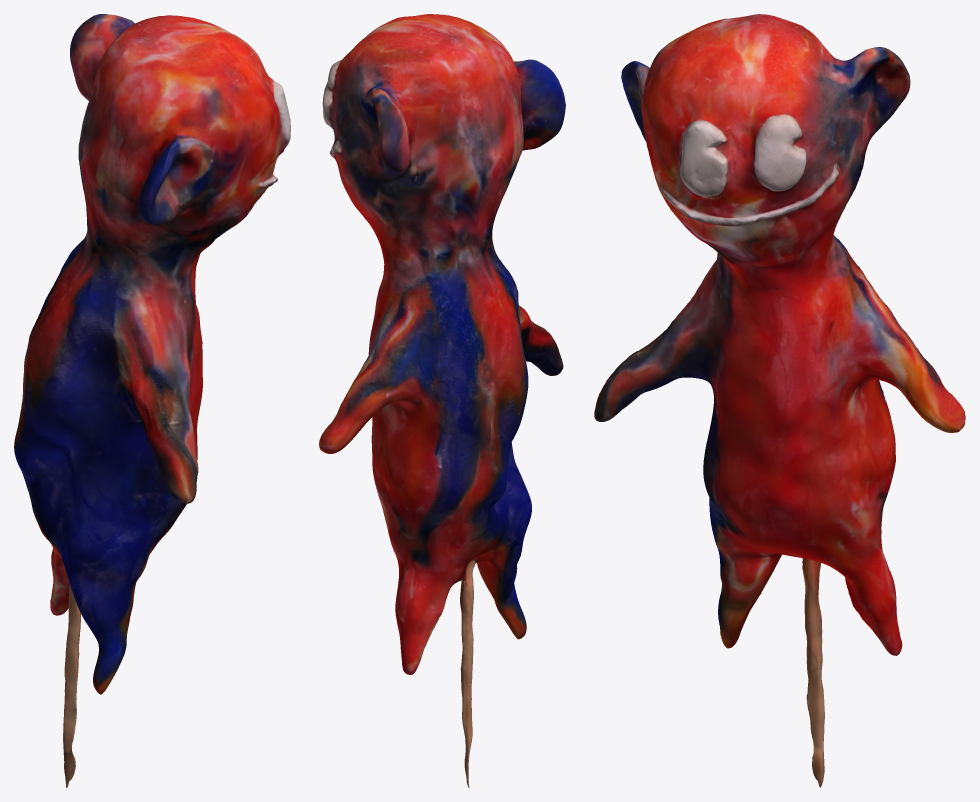
The model's file is figure.glb.
3 views of the same model, side by side, from view 1: azimuth 30°, elevation 25°; view 2: azimuth 150°, elevation 25°; view 3: azimuth 270°, elevation 25° (orthographic). The views are drawn at different scales.
Parts seen in each view (by area): view 1: model; view 2: model; view 3: model.
Boxes of the visible parts, x1,y1,x2,y2 form: model: (14,14,290,787); model: (319,14,565,787); model: (594,14,965,787).
Size of the model in its own units: 0.4847 by 1.62 by 0.6834.
1 material, 1 textured.
